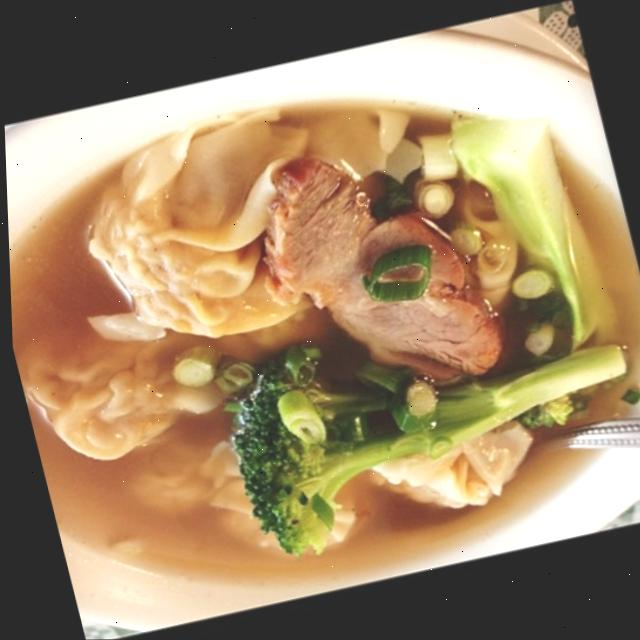汤锅炖物: (1, 15, 640, 640)
